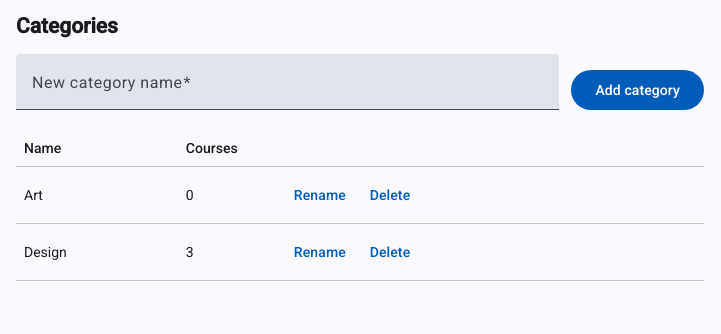
Scenario: AdminCategoriesComponent › US-27 S2: a duplicate name shows the error
The image size is (721, 334).
In the field labelled "New category name": (288, 90) x1=32 y1=78 x2=544 y2=102, type "design"
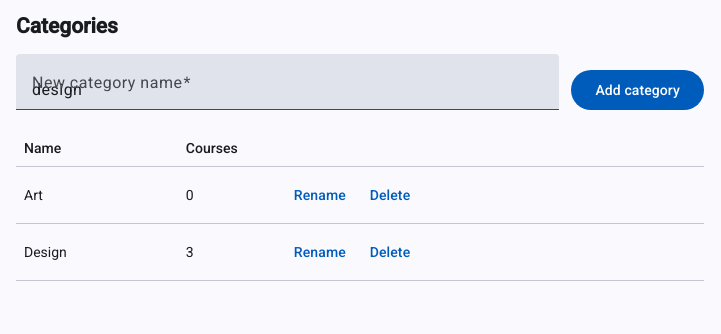
Submit the form with class "add", box x1=16 y1=54 x2=704 y2=130
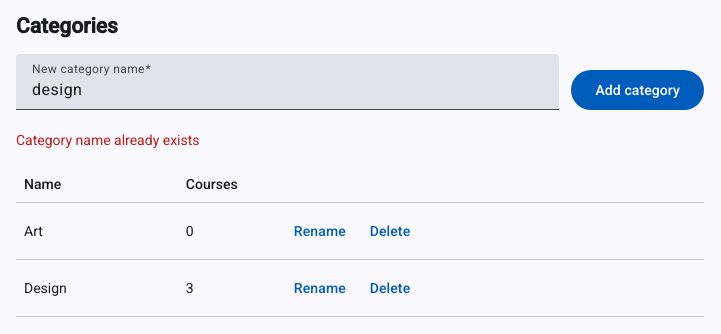
Check: the message "Category name already exists" is shown, box x1=16 y1=132 x2=200 y2=148
